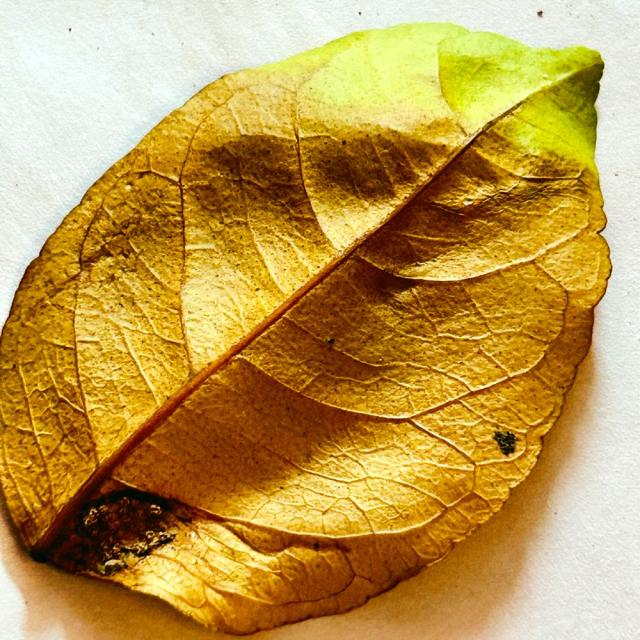DryLeaf_Lemon: (1, 39, 609, 634), (0, 0, 13, 4)
